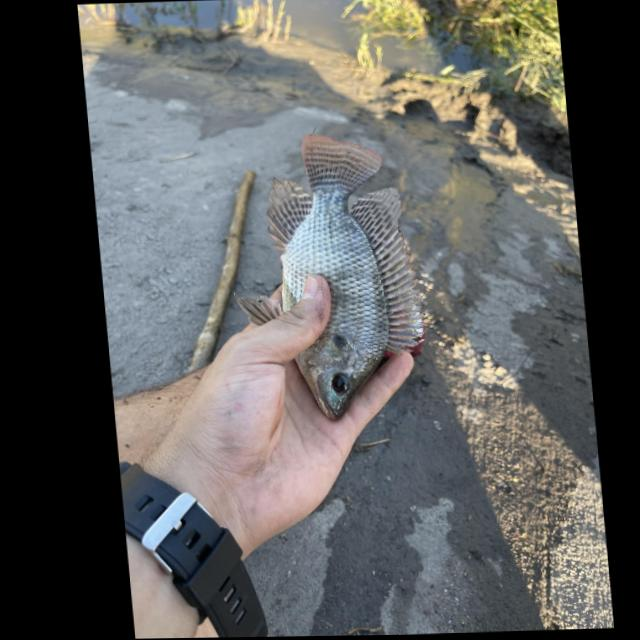Tilapia: (214, 127, 434, 425)
